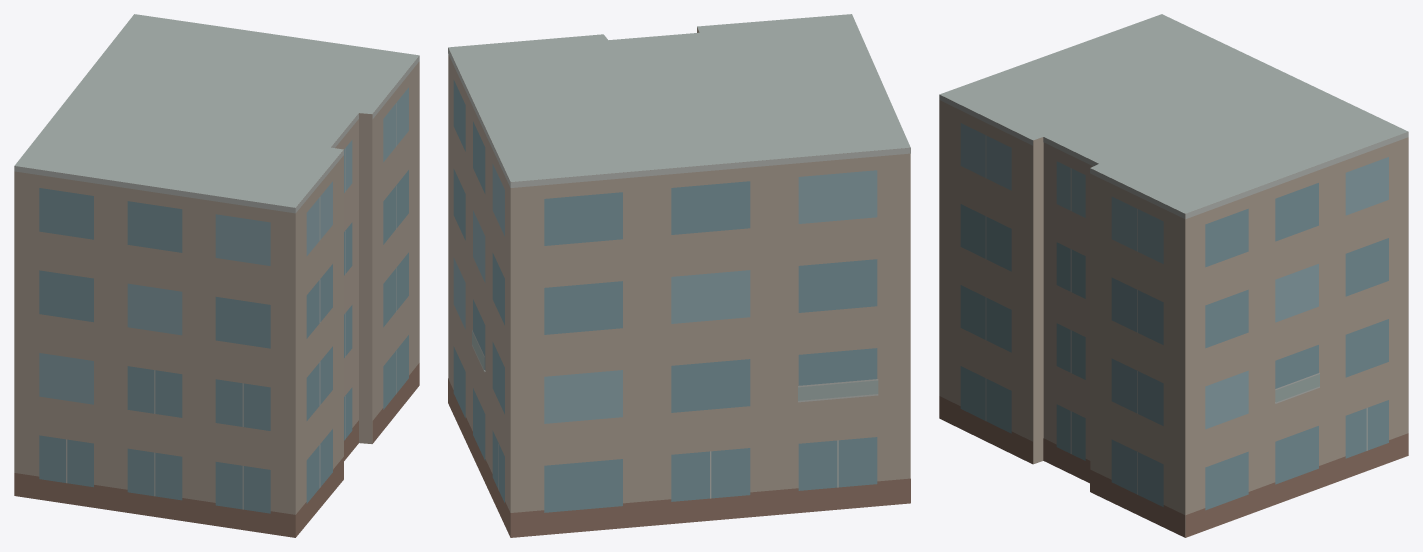
Rendered from survey-upis-32630989.glb.
3 views of the same model, side by side, from view 1: azimuth 30°, elevation 25°; view 2: azimuth 150°, elevation 25°; view 3: azimuth 270°, elevation 25° (orthographic). The views are drawn at different scales.
Visible parts, largest first — view 1: survey-upis-32630989.tmp; view 2: survey-upis-32630989.tmp; view 3: survey-upis-32630989.tmp.
Part boxes in pixels (x1=…): survey-upis-32630989.tmp: x1=14, y1=14, x2=419, y2=537; survey-upis-32630989.tmp: x1=448, y1=14, x2=910, y2=537; survey-upis-32630989.tmp: x1=939, y1=14, x2=1408, y2=537.
Size of the model in its own units: 19.26 by 14.55 by 19.11.
